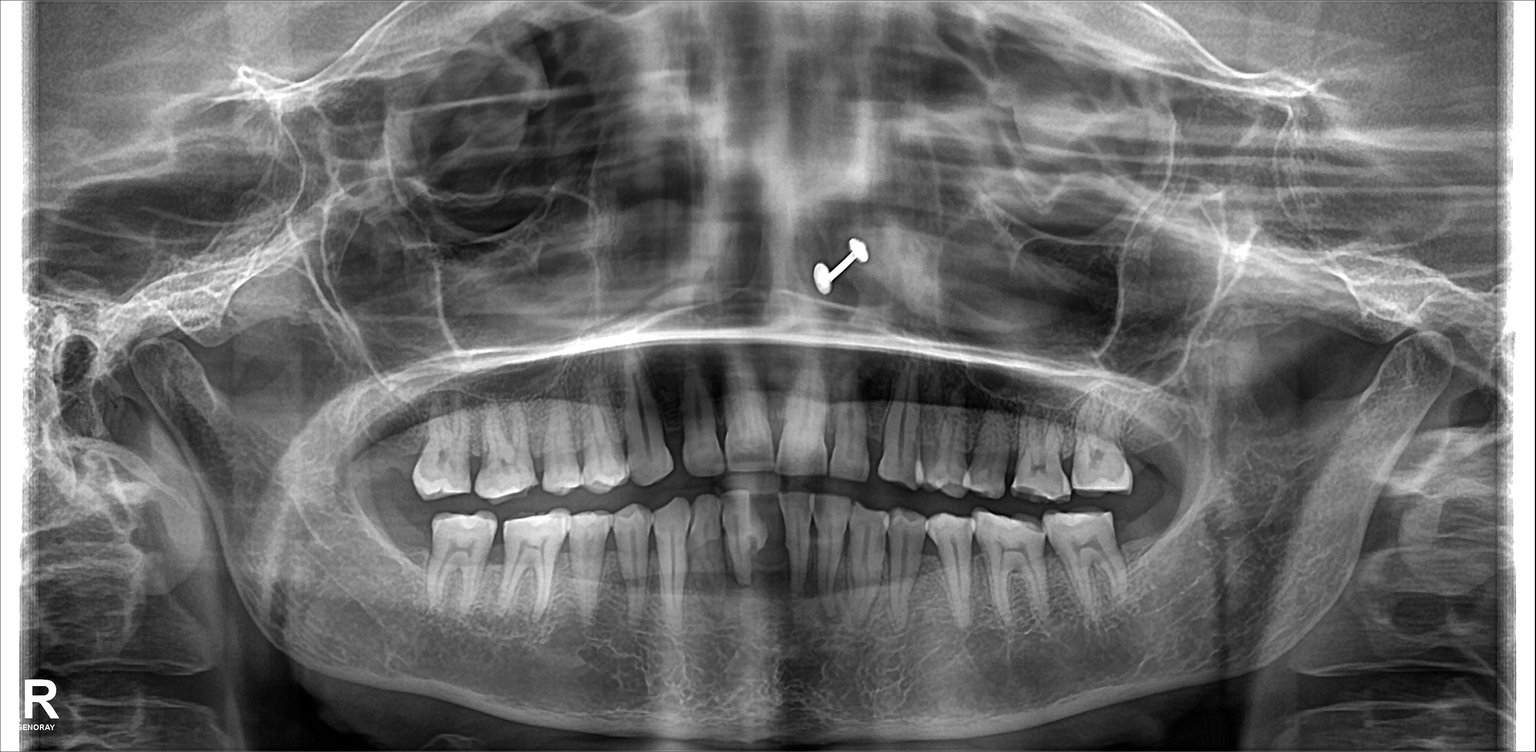Missing Tooth: (367, 499, 429, 612), (1119, 398, 1178, 481), (1121, 508, 1171, 584), (359, 406, 417, 471)
